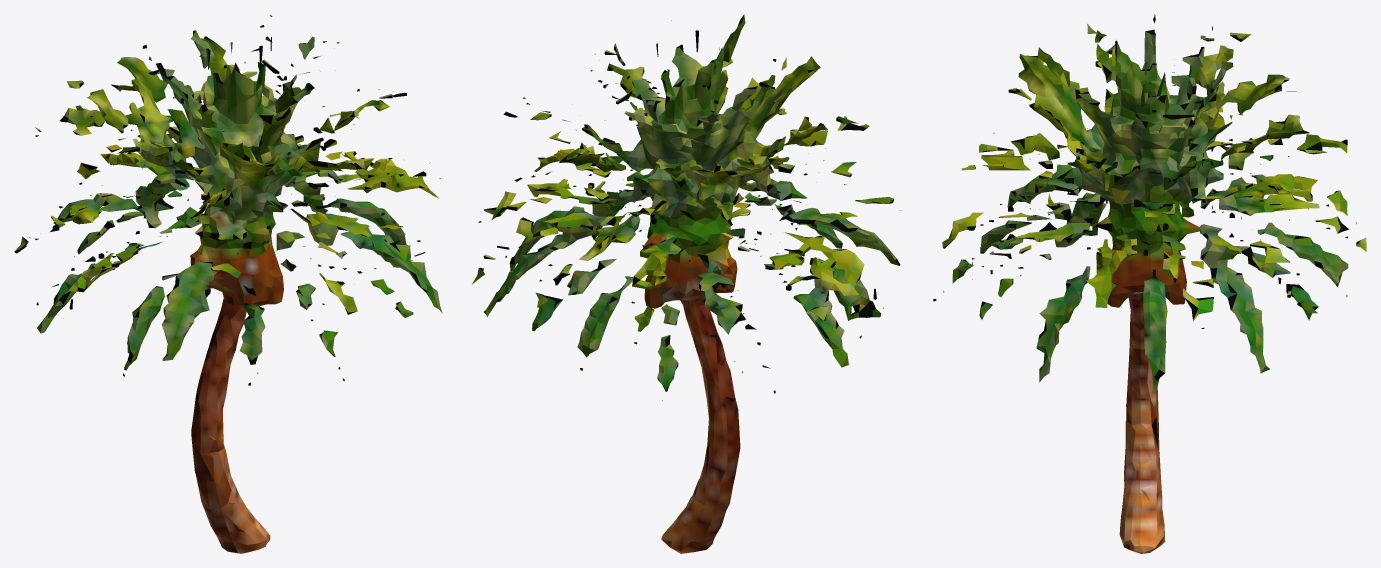
Rendered from palm.glb.
3 renders of one model, left to right at view 1: azimuth 30°, elevation 25°; view 2: azimuth 150°, elevation 25°; view 3: azimuth 270°, elevation 25°, orthographic.
Parts seen in each view (by area): view 1: palm_LOW; view 2: palm_LOW; view 3: palm_LOW.
Part boxes in pixels (x1,y1,x2,y2): palm_LOW: [14, 15, 442, 553]; palm_LOW: [472, 14, 901, 553]; palm_LOW: [933, 14, 1366, 553].
Bounding box in the file's own units: 3.3 × 4.43 × 3.39.
Materials: 1 (1 with a texture image).
